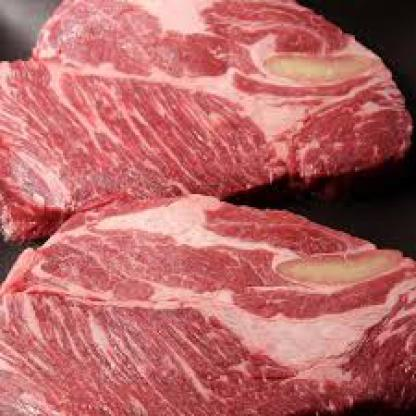beef: (26, 220, 407, 414), (11, 4, 383, 194)
